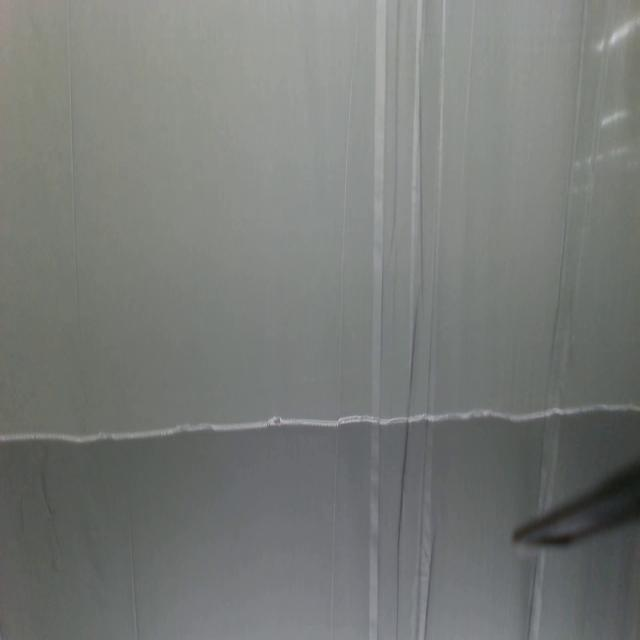crease: (394, 0, 426, 637), (416, 0, 448, 636), (327, 24, 360, 639), (366, 0, 390, 639), (549, 0, 588, 372), (66, 2, 82, 315), (457, 0, 477, 182), (390, 0, 404, 248), (526, 549, 544, 640), (129, 539, 141, 640)
